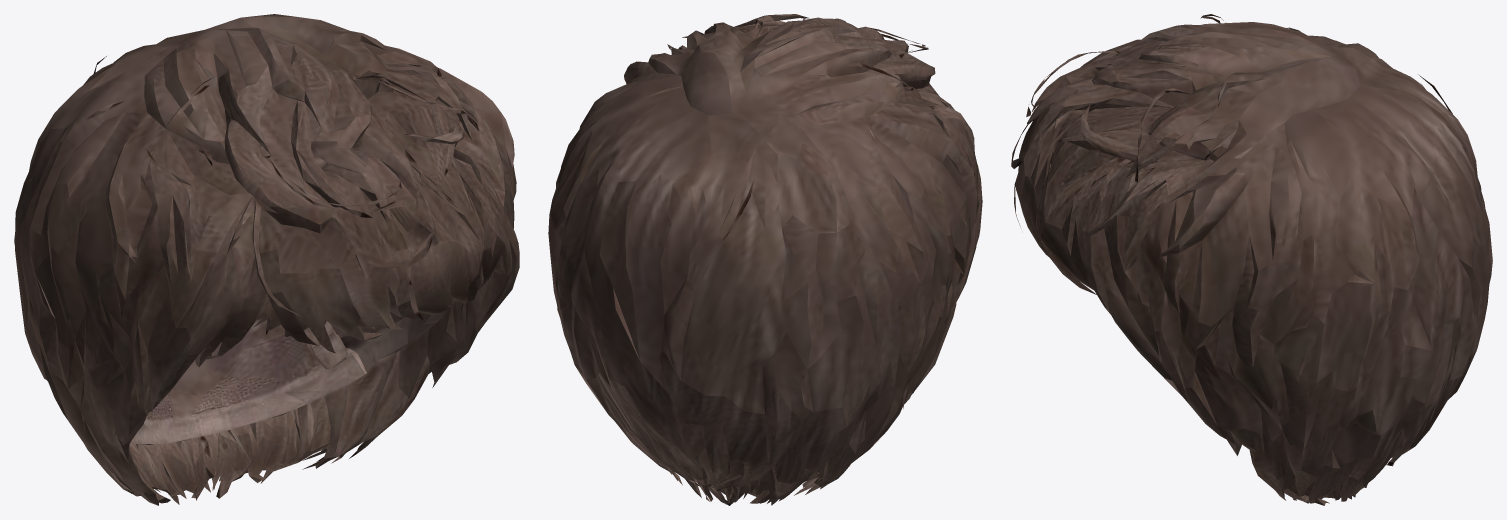
The model's file is acc_hair1.glb.
3 renders of one model, left to right at view 1: azimuth 30°, elevation 25°; view 2: azimuth 150°, elevation 25°; view 3: azimuth 270°, elevation 25°, orthographic. The views are drawn at different scales.
Size of the model in its own units: 1.69 by 1.87 by 1.81.
Materials: 1 (1 with a texture image).
